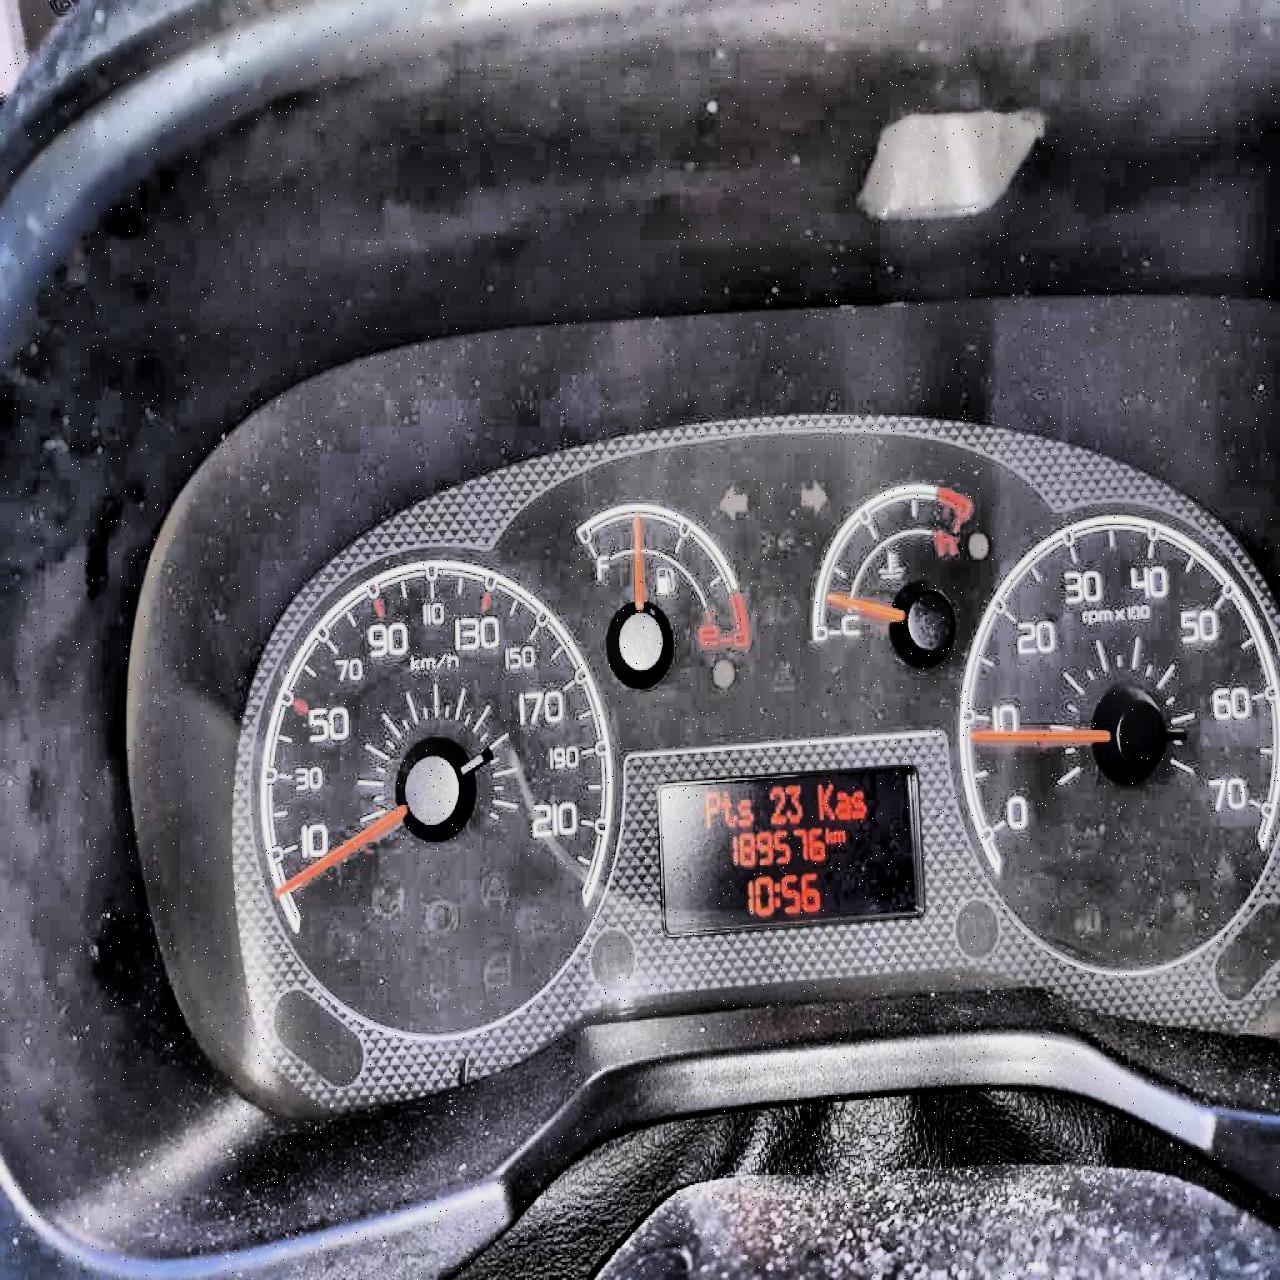0: (754, 874, 772, 915)
1: (731, 833, 738, 865), (747, 878, 753, 913)
2: (768, 784, 784, 823)
3: (785, 783, 801, 822)
5: (779, 873, 799, 912), (772, 829, 790, 864)
6: (799, 872, 821, 911), (808, 826, 824, 860)
7: (791, 826, 808, 858)
8: (738, 832, 755, 865)
9: (755, 830, 772, 865)
X: (816, 782, 833, 821), (704, 790, 720, 829), (720, 790, 736, 825), (736, 797, 754, 825), (850, 790, 866, 818), (835, 790, 850, 818), (772, 880, 779, 907), (832, 829, 845, 842), (824, 826, 832, 842)
odometer: (656, 762, 925, 938)
